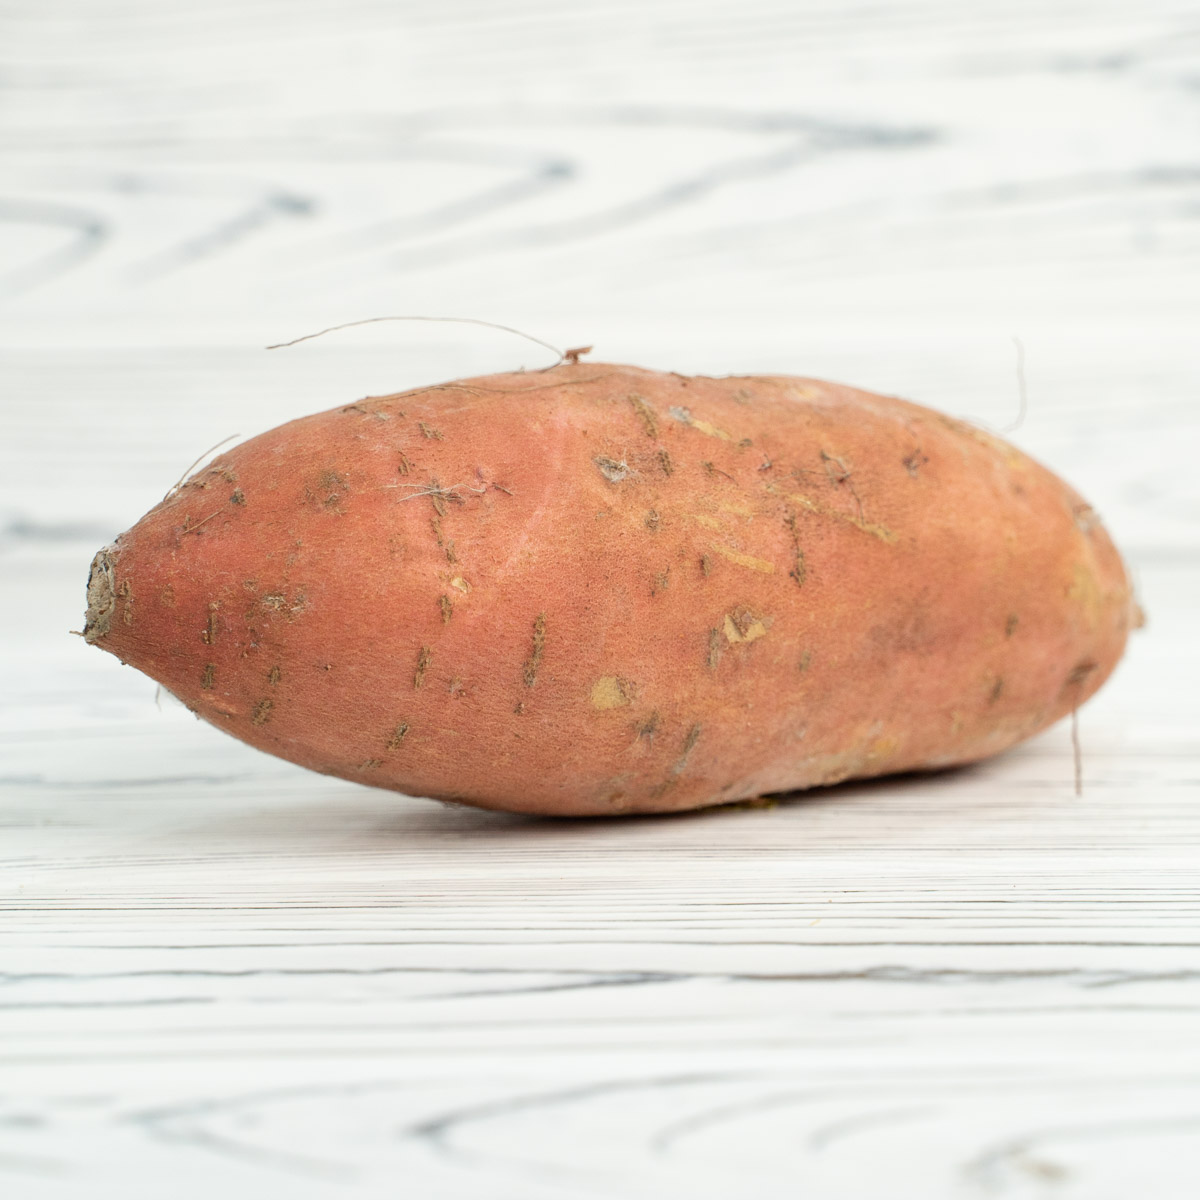potato: (79, 284, 1178, 763)
